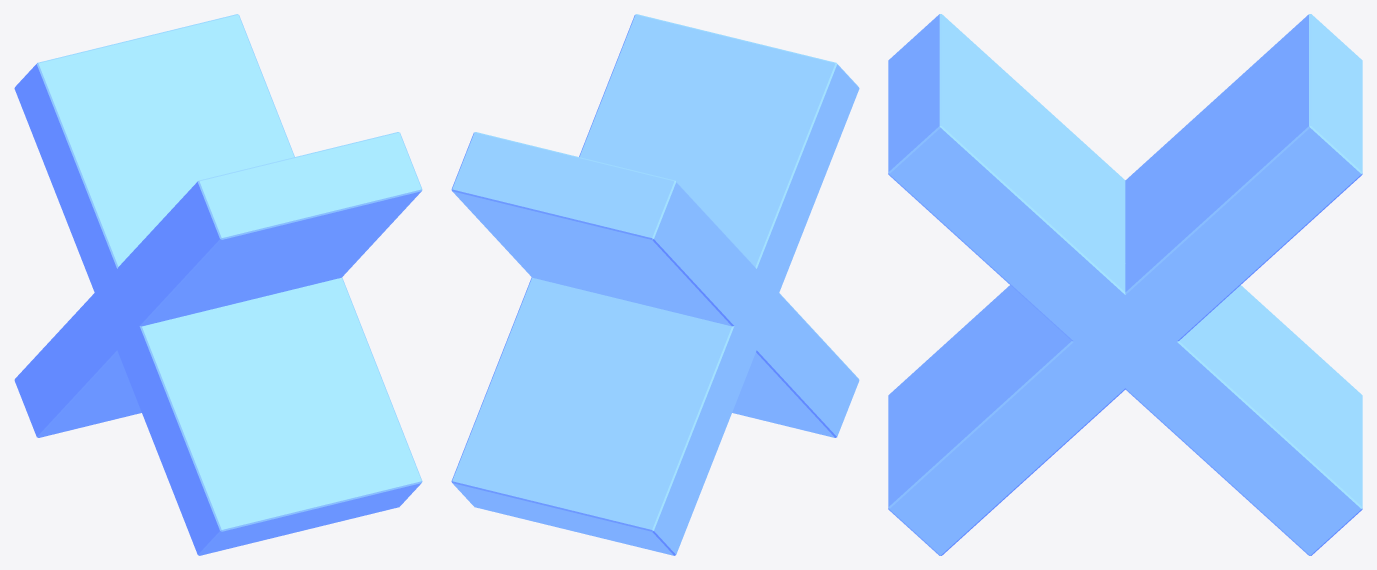
File: xmark.glb
The picture shows the model from 3 angles, left to right: view 1: azimuth 30°, elevation 25°; view 2: azimuth 150°, elevation 25°; view 3: azimuth 270°, elevation 25°; orthographic projection. The views are drawn at different scales.
Parts seen in each view (by area): view 1: PS_Lamp_X_0; view 2: PS_Lamp_X_0; view 3: PS_Lamp_X_0.
Part boxes in pixels (x1,y1,x2,y2): PS_Lamp_X_0: (14, 14, 422, 555); PS_Lamp_X_0: (451, 14, 859, 555); PS_Lamp_X_0: (888, 14, 1362, 555).
Size of the model in its own units: 0.0329 by 0.0581 by 0.0581.
